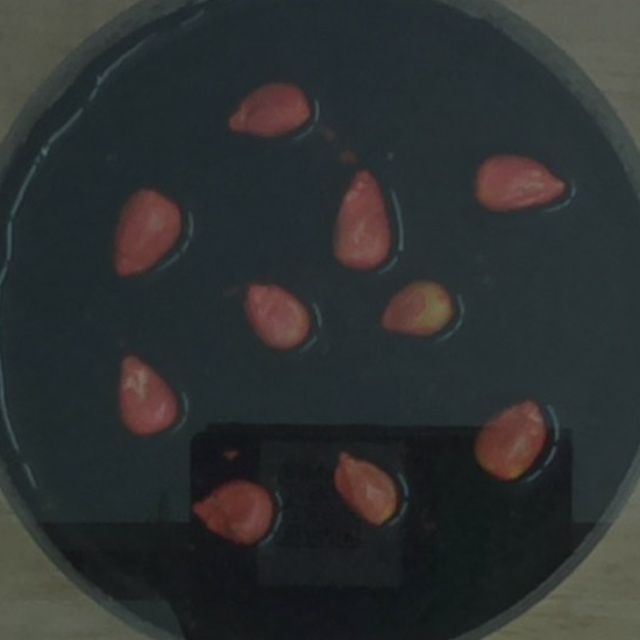Zea mays: (102, 179, 189, 285), (324, 160, 400, 278), (464, 392, 555, 489), (181, 471, 279, 555), (104, 343, 186, 443), (467, 144, 576, 218), (231, 267, 318, 359), (323, 439, 407, 534), (219, 73, 317, 146), (372, 271, 462, 345)
